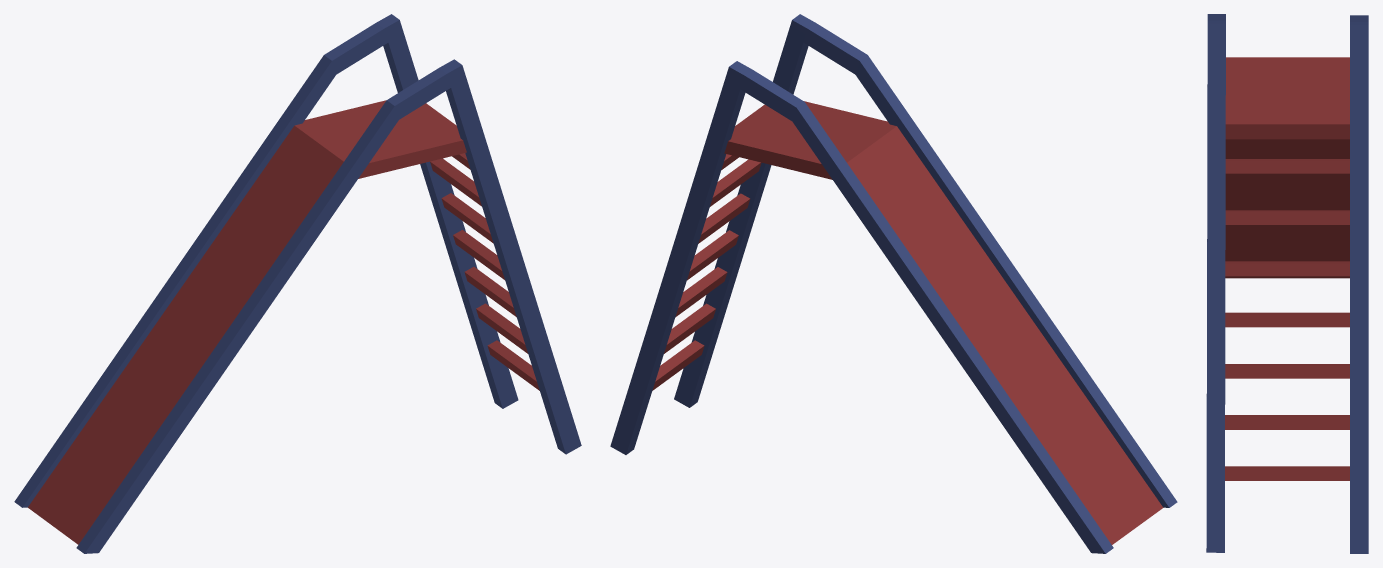
File: slide.fbx
The picture shows the model from 3 angles, left to right: view 1: azimuth 30°, elevation 25°; view 2: azimuth 150°, elevation 25°; view 3: azimuth 270°, elevation 25°; orthographic projection. The views are drawn at different scales.
Parts seen in each view (by area): view 1: pCube22; view 2: pCube22; view 3: pCube22.
Part boxes in pixels (bbox=[...]): pCube22: bbox=[14, 14, 581, 553]; pCube22: bbox=[610, 14, 1177, 553]; pCube22: bbox=[1206, 14, 1368, 553].
Bounding box in the file's own units: 6.3 × 5.03 × 1.57.
